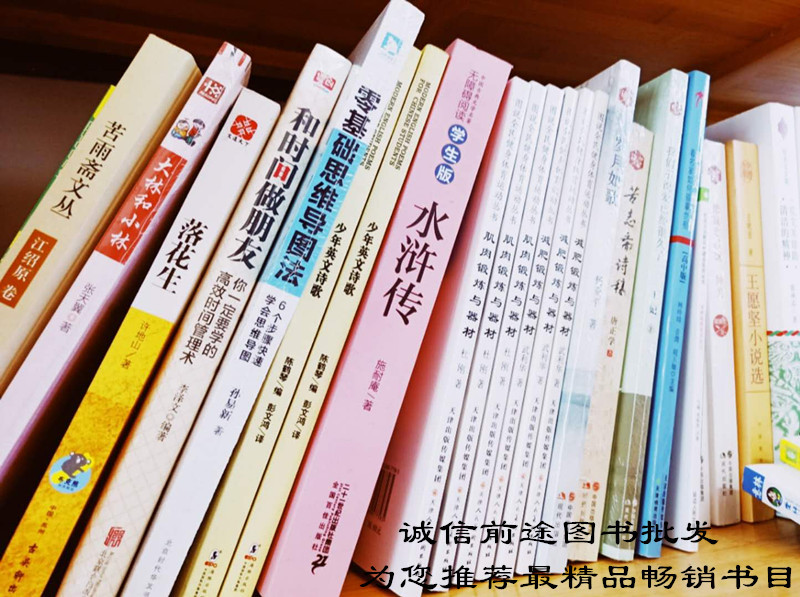book: (320, 46, 468, 597), (14, 36, 164, 394), (597, 55, 659, 534), (746, 71, 800, 530), (684, 116, 728, 534)
